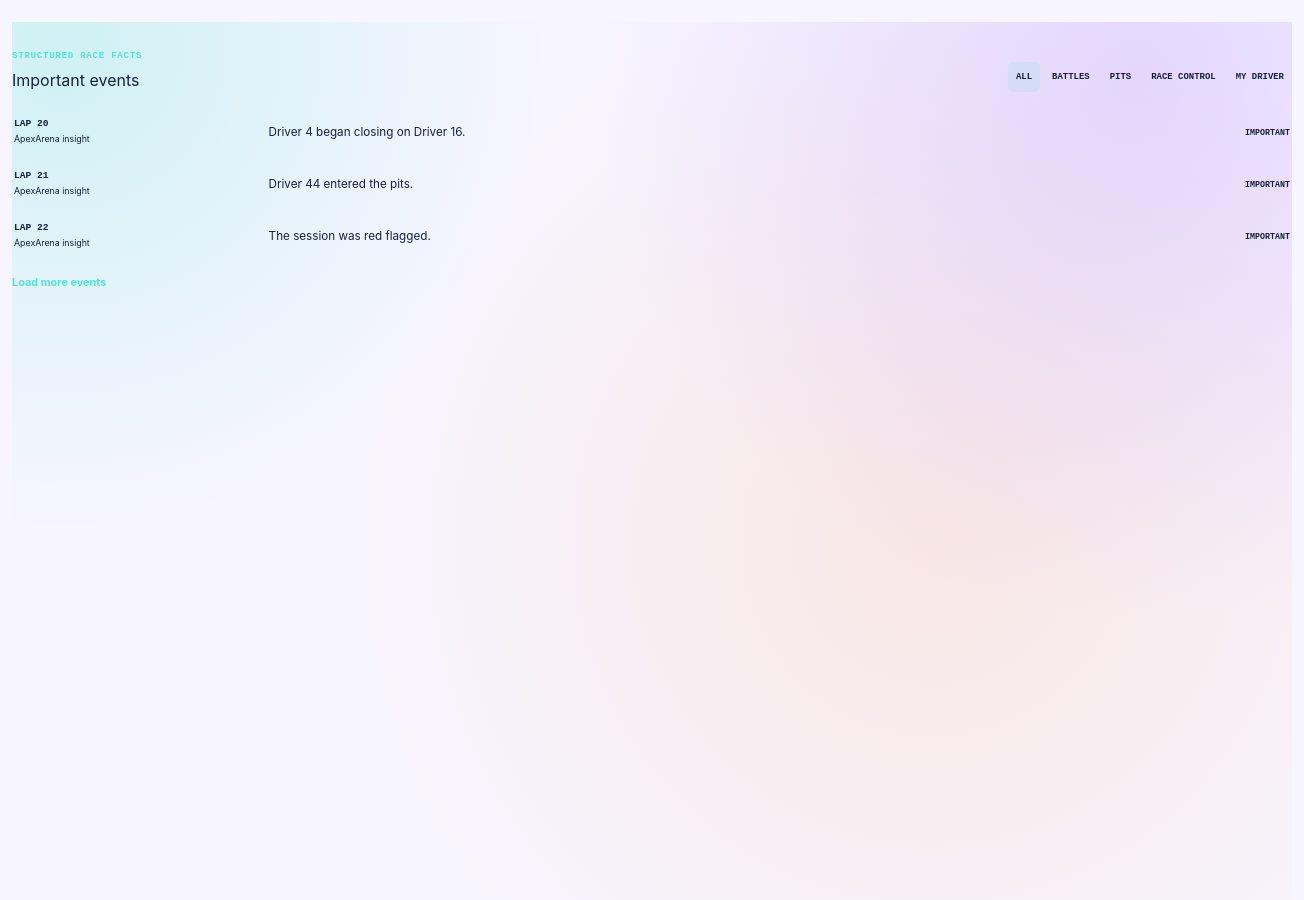
Test case: RaceEventFeed › filters the structured feed and preserves lap ordering
The width and height of the screenshot is (1304, 900).
Check: the text "LAP 20" is shown, box x1=14 y1=118 x2=48 y2=129
Click the button "Pits" at (1120, 77), box x1=1102 y1=62 x2=1139 y2=92
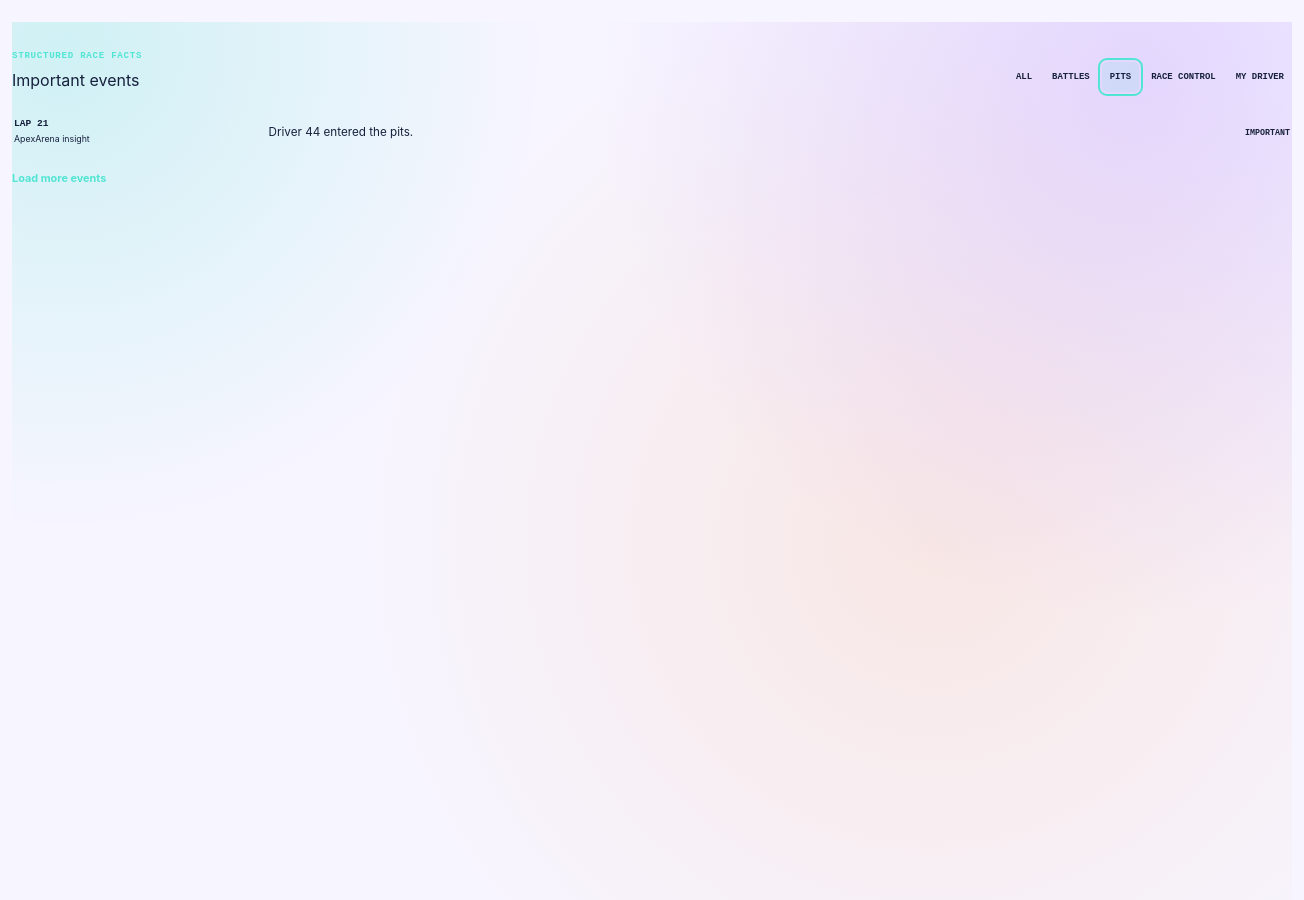
Check: the text "LAP 21" is shown, box x1=14 y1=118 x2=48 y2=129
Check: the text "LAP 20" is gone
